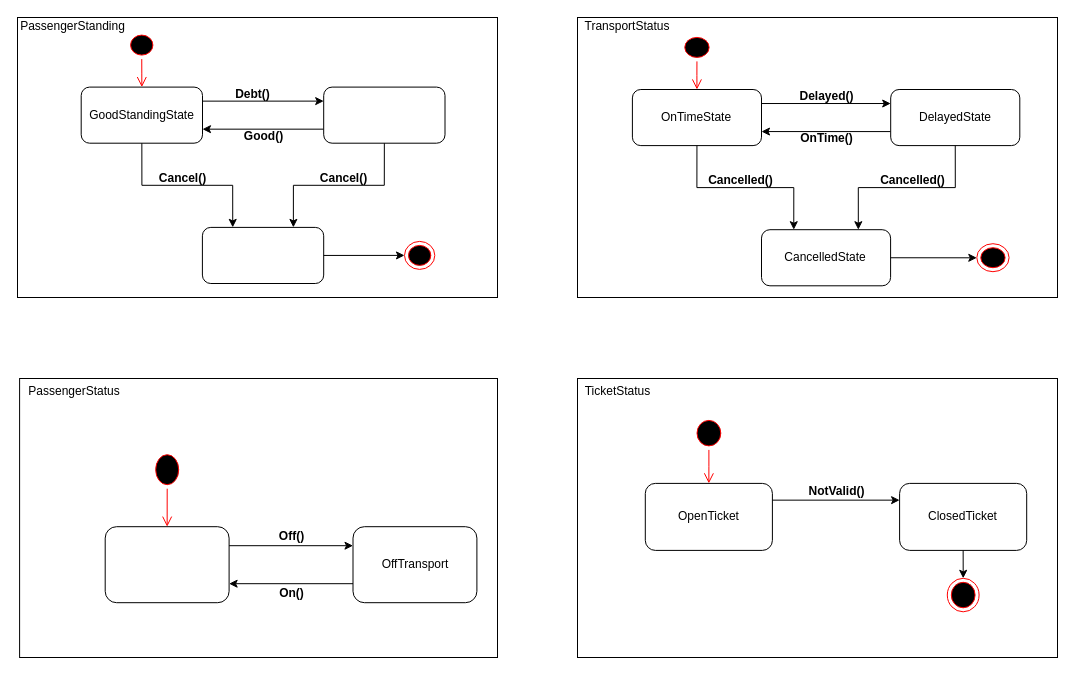
Image size: 1075x675. Some labels were removed from this diagram. Here are the shapes that lost their labels. From the top down, the centre of each, then its label:
pixel 384 114: DebtState
pixel 262 255: CancelState
pixel 166 564: OnTransport
